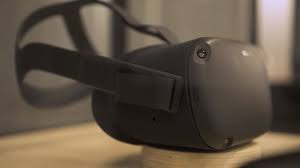oculus: (91, 36, 275, 153)
